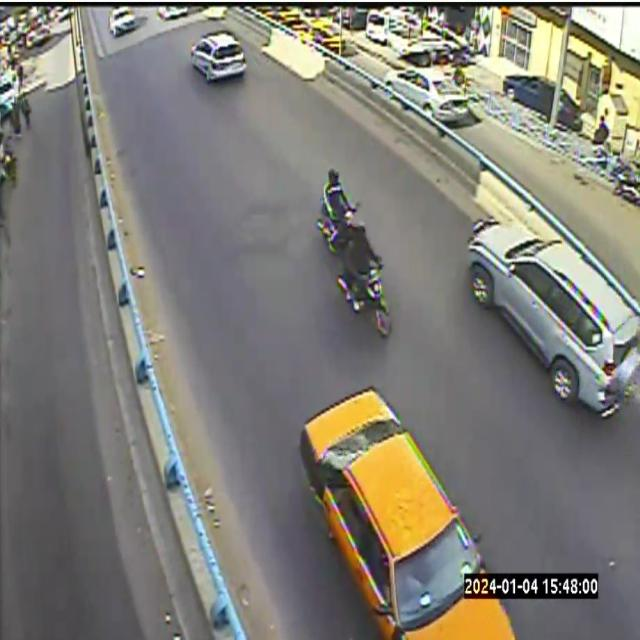car: (467, 202, 639, 417), (467, 216, 639, 416), (467, 217, 639, 416), (157, 5, 189, 20)
